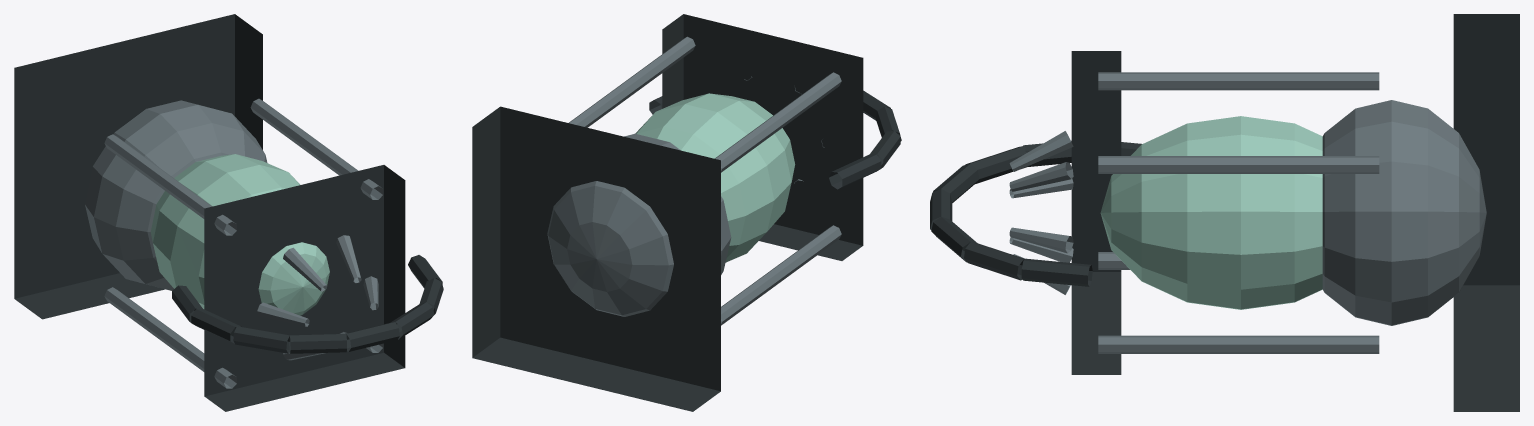
The model's file is lamp.obj.
The picture shows the model from 3 angles, left to right: view 1: azimuth 30°, elevation 25°; view 2: azimuth 150°, elevation 25°; view 3: azimuth 270°, elevation 25°; orthographic projection. The views are drawn at different scales.
Parts seen in each view (by area): view 1: Base, TopCap, FuelTank, Glass, Cage_-0.48_0.48, Cage_-0.48_-0.48, Cage_0.48_0.48, Handle4, Handle5, Handle3, Handle6, Handle2 (+7 smaller); view 2: Base, TopCap, FuelTank, Glass, Cage_-0.48_0.48, Cage_-0.48_-0.48, Cage_0.48_0.48, Handle7, Handle6, Handle5, Handle4; view 3: Glass, FuelTank, Base, TopCap, Cage_-0.48_0.48, Cage_0.48_-0.48, Cage_0.48_0.48, Handle0, Handle1, Handle5, Vent2, Vent1 (+6 smaller).
Part boxes in pixels (bbox=[...]): Base: bbox=[14, 14, 262, 319]; TopCap: bbox=[204, 165, 405, 411]; FuelTank: bbox=[85, 100, 267, 290]; Glass: bbox=[150, 154, 329, 315]; Cage_-0.48_0.48: bbox=[104, 134, 236, 235]; Cage_-0.48_-0.48: bbox=[104, 287, 236, 388]; Cage_0.48_0.48: bbox=[250, 98, 383, 199]; Handle4: bbox=[289, 334, 346, 353]; Handle5: bbox=[233, 326, 289, 353]; Handle3: bbox=[345, 322, 399, 351]; Handle6: bbox=[191, 309, 241, 343]; Handle2: bbox=[390, 302, 434, 339]; Base: bbox=[472, 106, 720, 411]; TopCap: bbox=[662, 14, 863, 260]; FuelTank: bbox=[547, 133, 731, 316]; Glass: bbox=[635, 93, 795, 262]; Cage_-0.48_0.48: bbox=[714, 72, 841, 172]; Cage_-0.48_-0.48: bbox=[721, 225, 841, 325]; Cage_0.48_0.48: bbox=[569, 36, 695, 127]; Handle7: bbox=[829, 154, 881, 189]; Handle6: bbox=[870, 131, 900, 168]; Handle5: bbox=[875, 106, 901, 141]; Handle4: bbox=[863, 90, 890, 120]; Glass: bbox=[1100, 116, 1322, 309]; FuelTank: bbox=[1322, 100, 1486, 325]; Base: bbox=[1453, 14, 1519, 411]; TopCap: bbox=[1071, 51, 1121, 374]; Cage_-0.48_0.48: bbox=[1098, 72, 1379, 90]; Cage_0.48_-0.48: bbox=[1098, 335, 1379, 353]; Cage_0.48_0.48: bbox=[1098, 156, 1379, 173]; Handle0: bbox=[1021, 258, 1092, 286]; Handle1: bbox=[964, 242, 1024, 280]; Handle5: bbox=[965, 146, 1027, 183]; Vent2: bbox=[1009, 131, 1073, 171]; Vent1: bbox=[1009, 162, 1073, 191].
Size of the model in its own units: 1.54 by 1.45 by 2.86.
